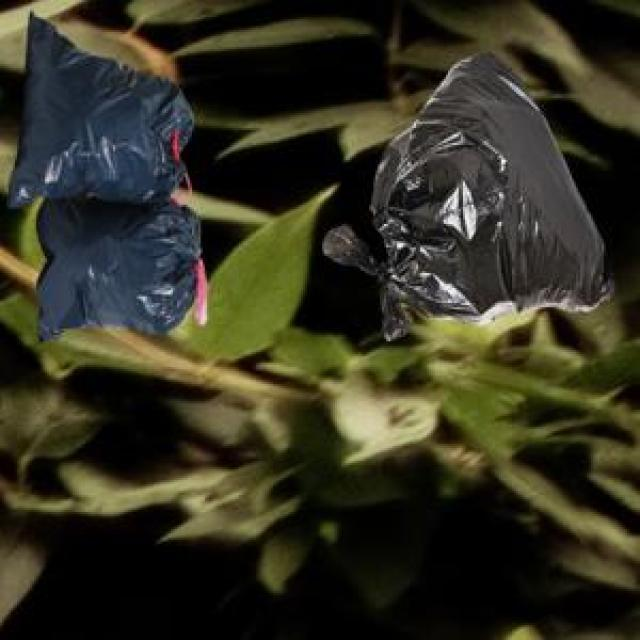Trashbag: (317, 50, 627, 345), (6, 8, 197, 215), (28, 195, 211, 349)
